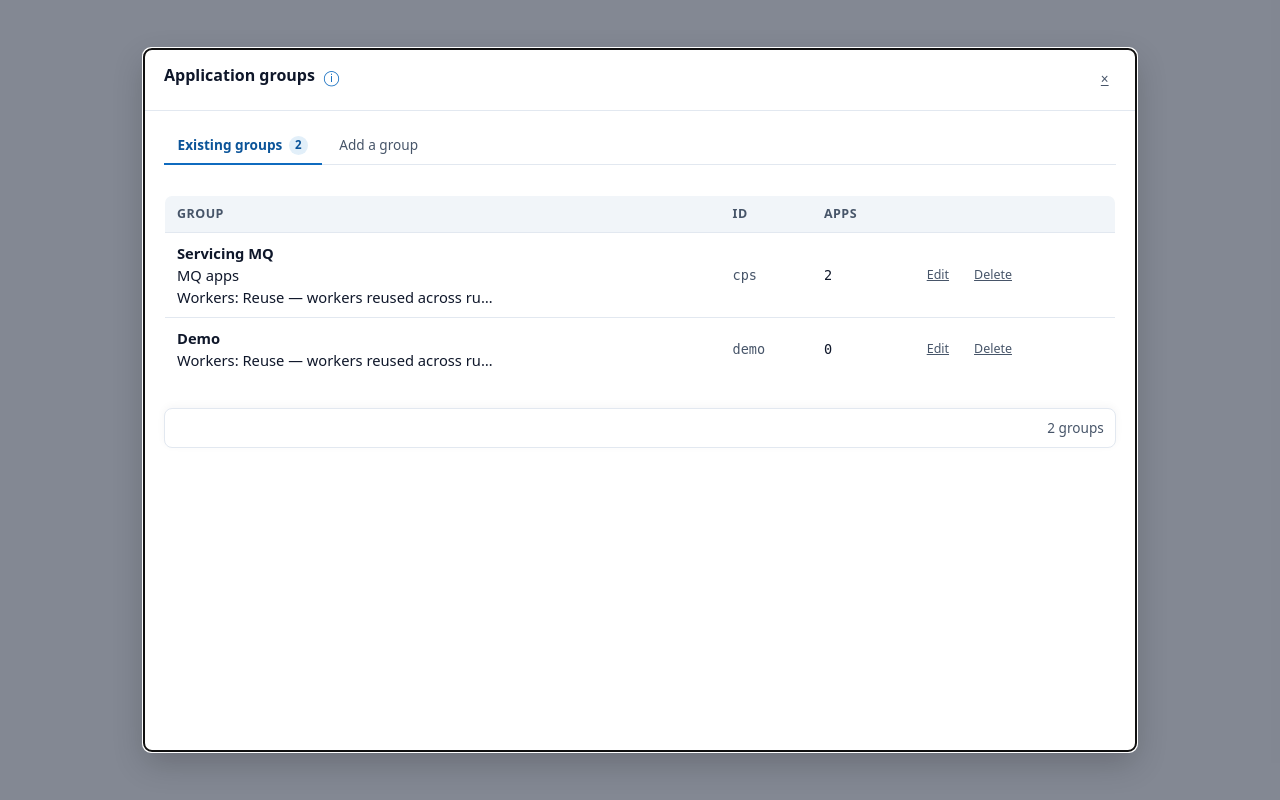
ApplicationGroupsDialog › a group that still has workers or capacity cannot be deleted — the toast says where to fix it
The image size is (1280, 800).
Expected: the text "Demo" is shown, [177, 328, 220, 348]
Click the button with aria-label "delete group demo". click: (993, 349)
box: [964, 334, 1023, 363]
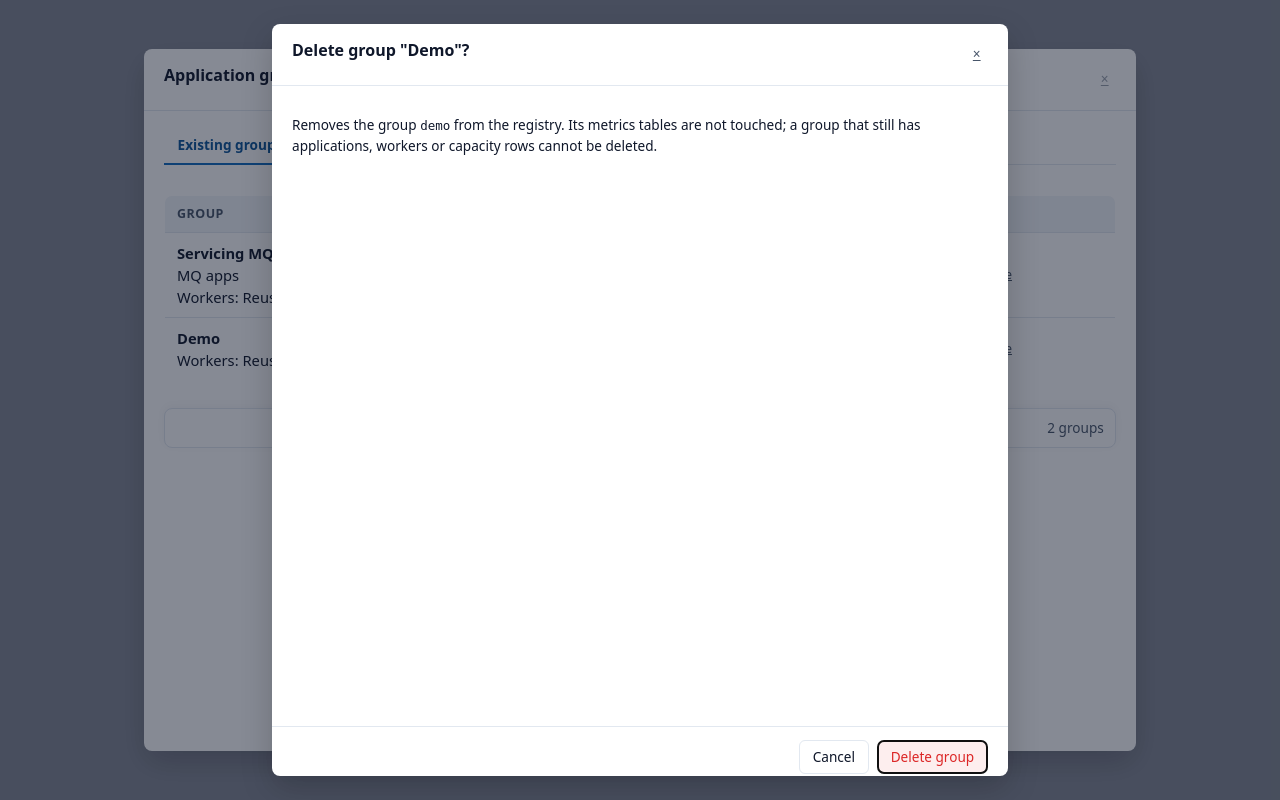
Click the button "Delete group". click: (932, 757)
box: [877, 740, 988, 774]
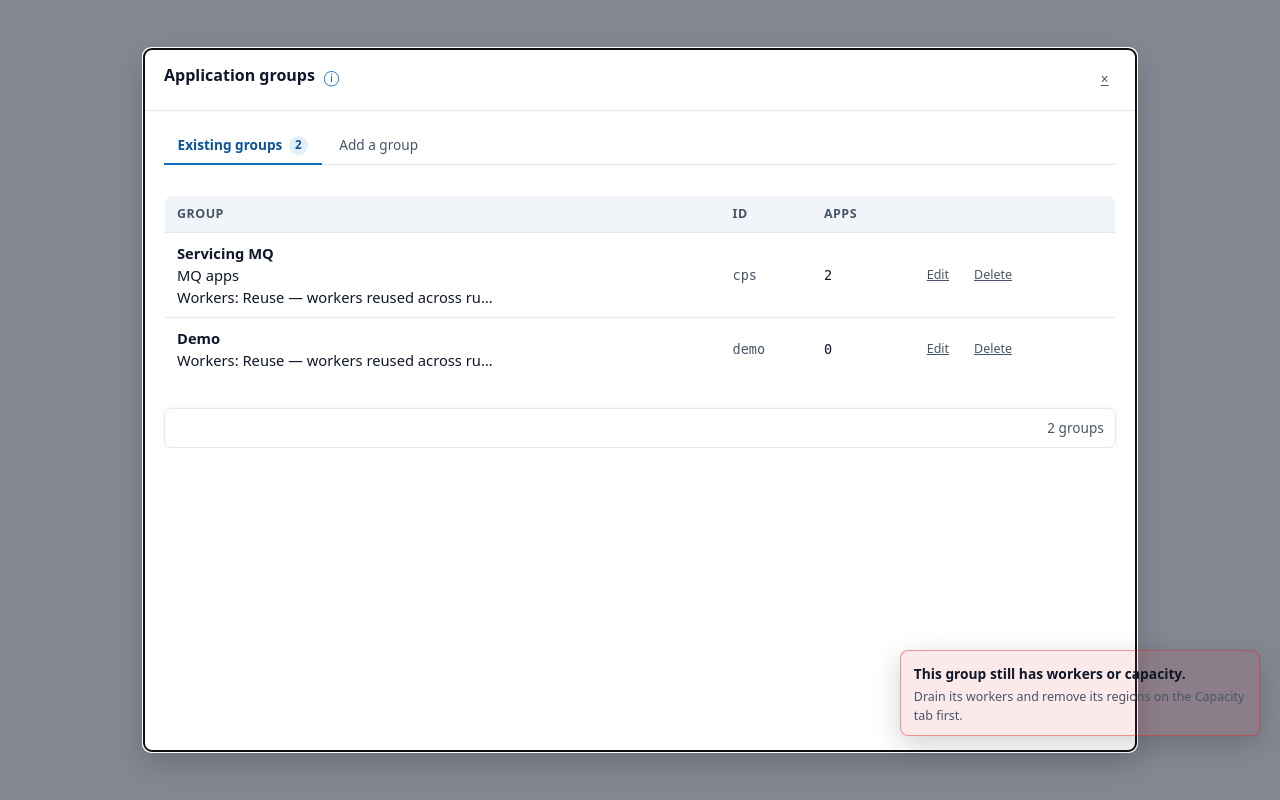
Result: the message shows "This group still has workers or capacity." at [914, 664, 1186, 683]
Result: the message shows "Capacity tab" at [914, 688, 1244, 724]
